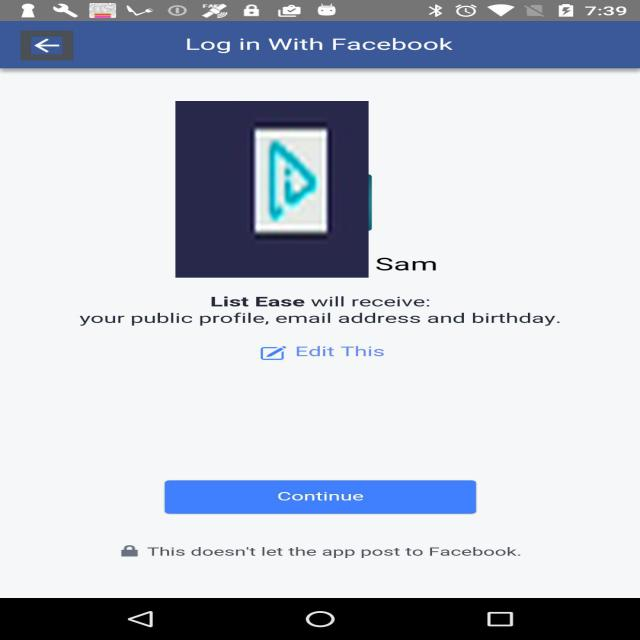sneaking: (175, 101, 368, 278)
